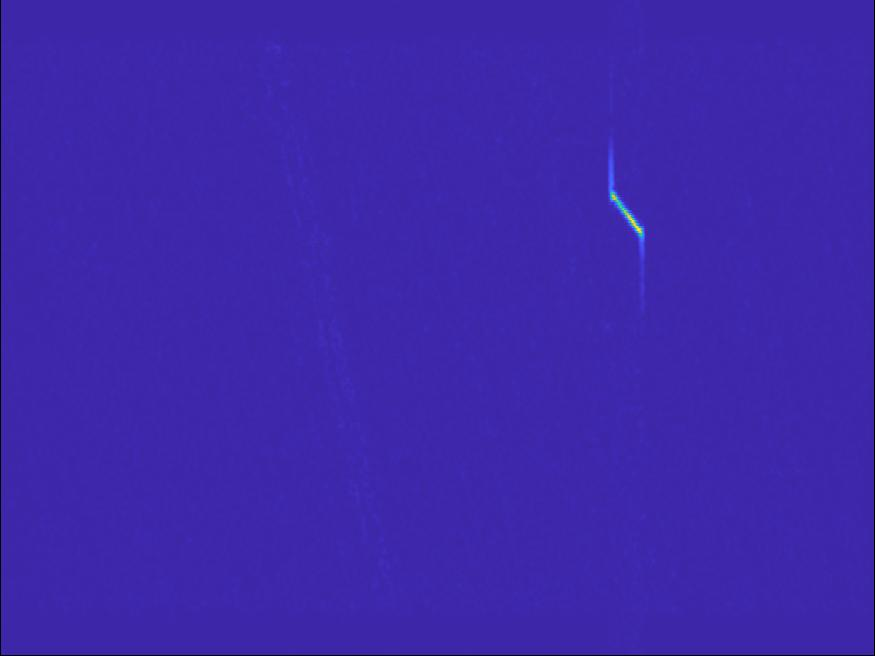Interference: (78, 1, 276, 166), (43, 541, 201, 656), (159, 244, 240, 311), (182, 1, 242, 34)
